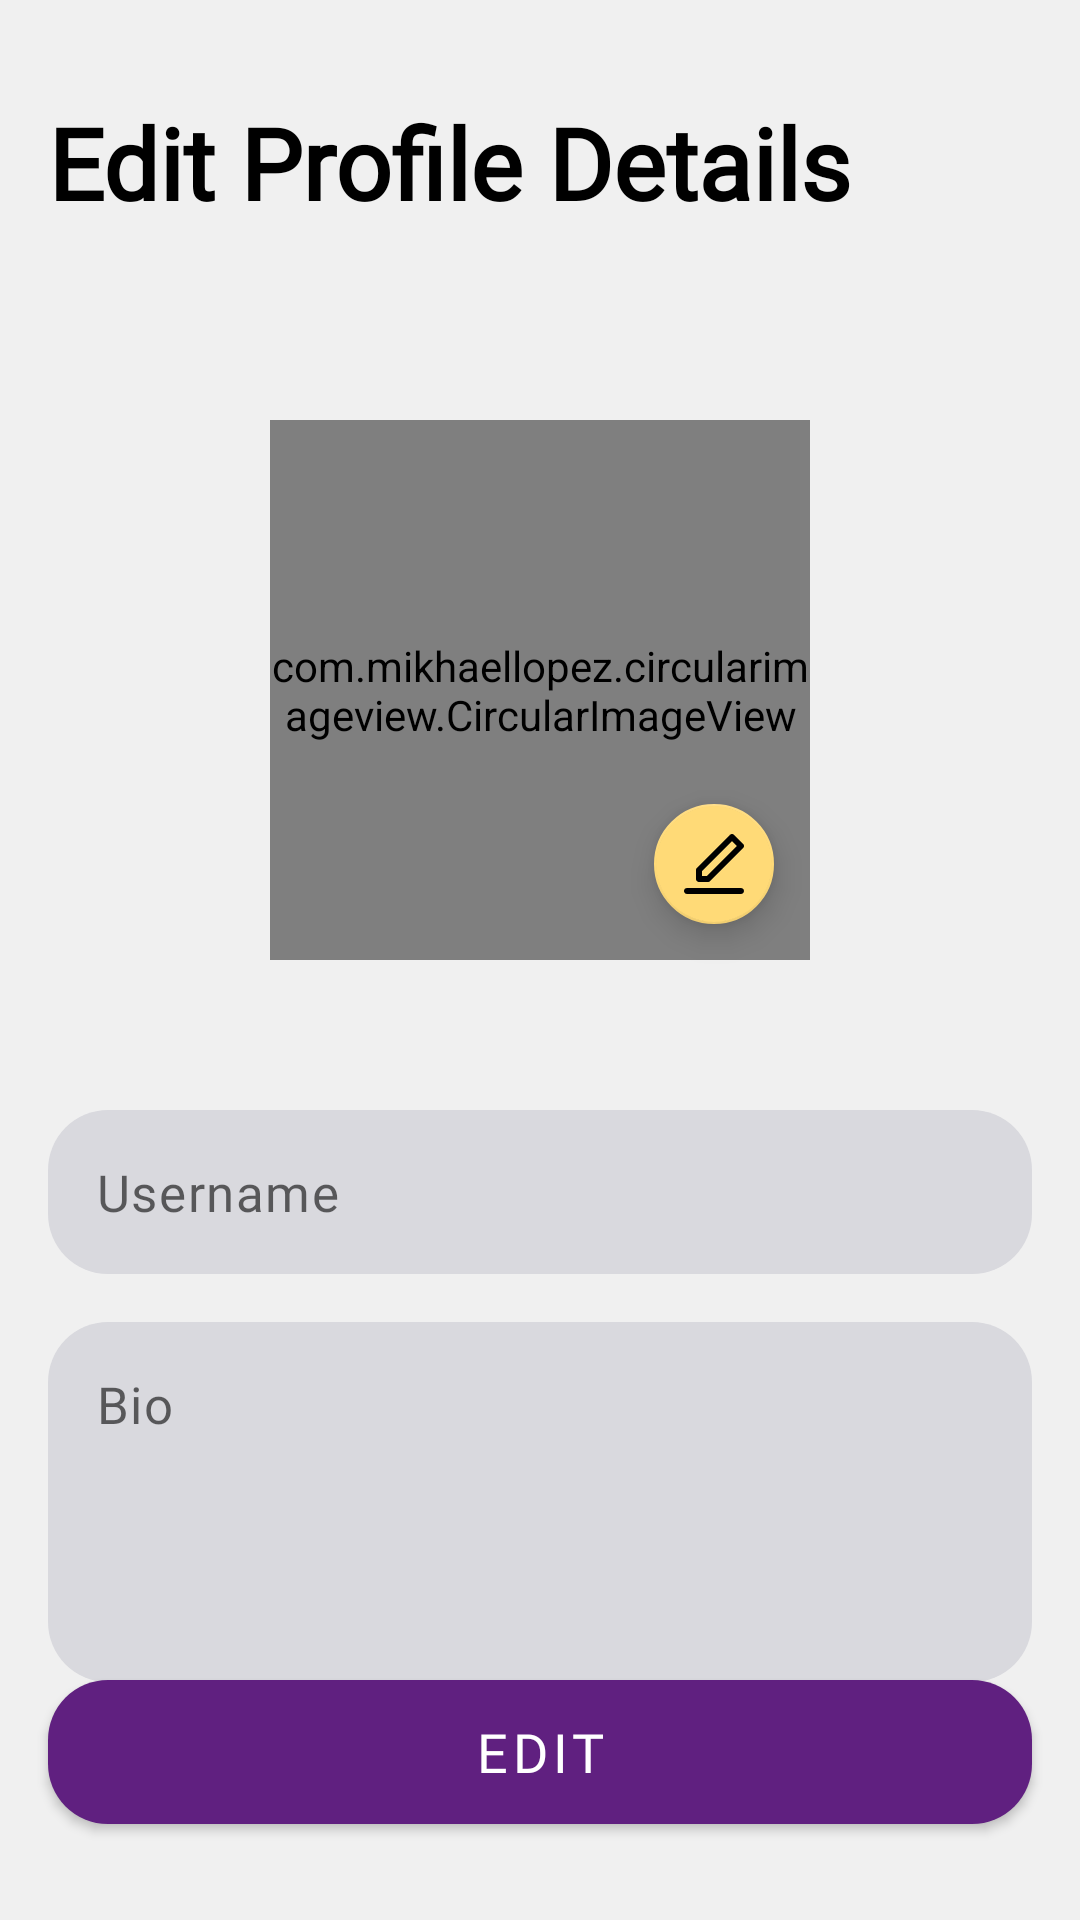

Where icons sit on this 1080w x 1920h app screen, as (x1, y1, x2, y2):
edit: (654, 804, 774, 924)
